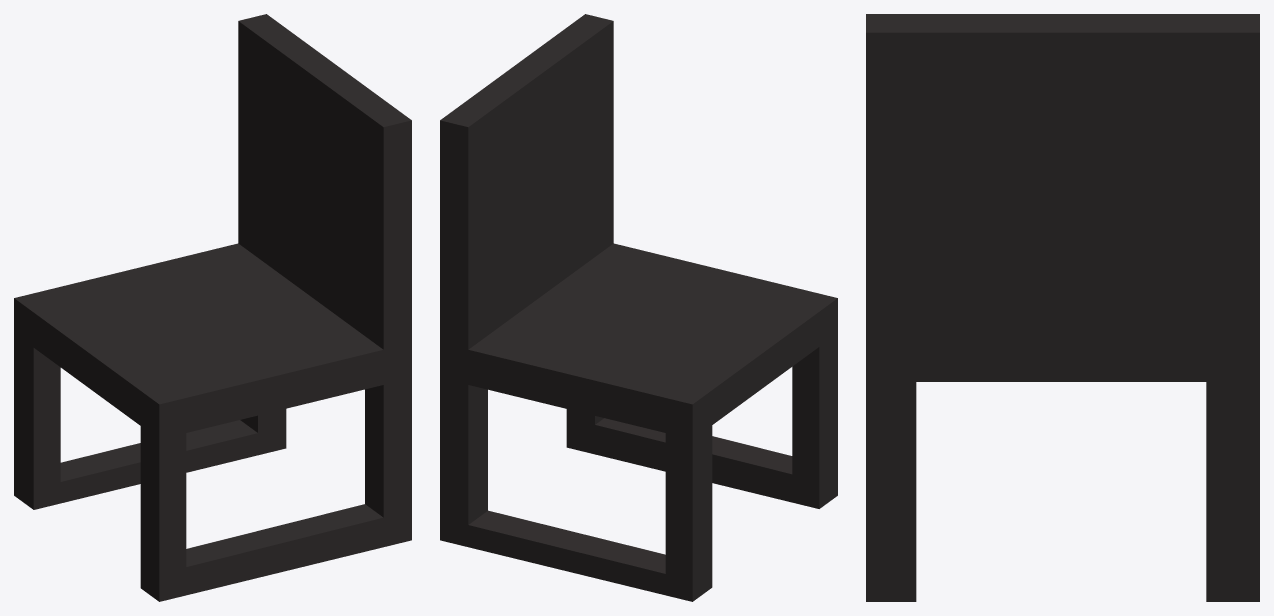
File: chair.fbx
3 views of the same model, side by side, from view 1: azimuth 30°, elevation 25°; view 2: azimuth 150°, elevation 25°; view 3: azimuth 270°, elevation 25° (orthographic). The views are drawn at different scales.
Parts seen in each view (by area): view 1: 의자; view 2: 의자; view 3: 의자.
Part boxes in pixels (x1,y1,x2,y2): 의자: (14, 14, 411, 601); 의자: (440, 14, 837, 601); 의자: (866, 14, 1259, 601).
Bounding box in the file's own units: 9.24 × 14.69 × 9.21.
